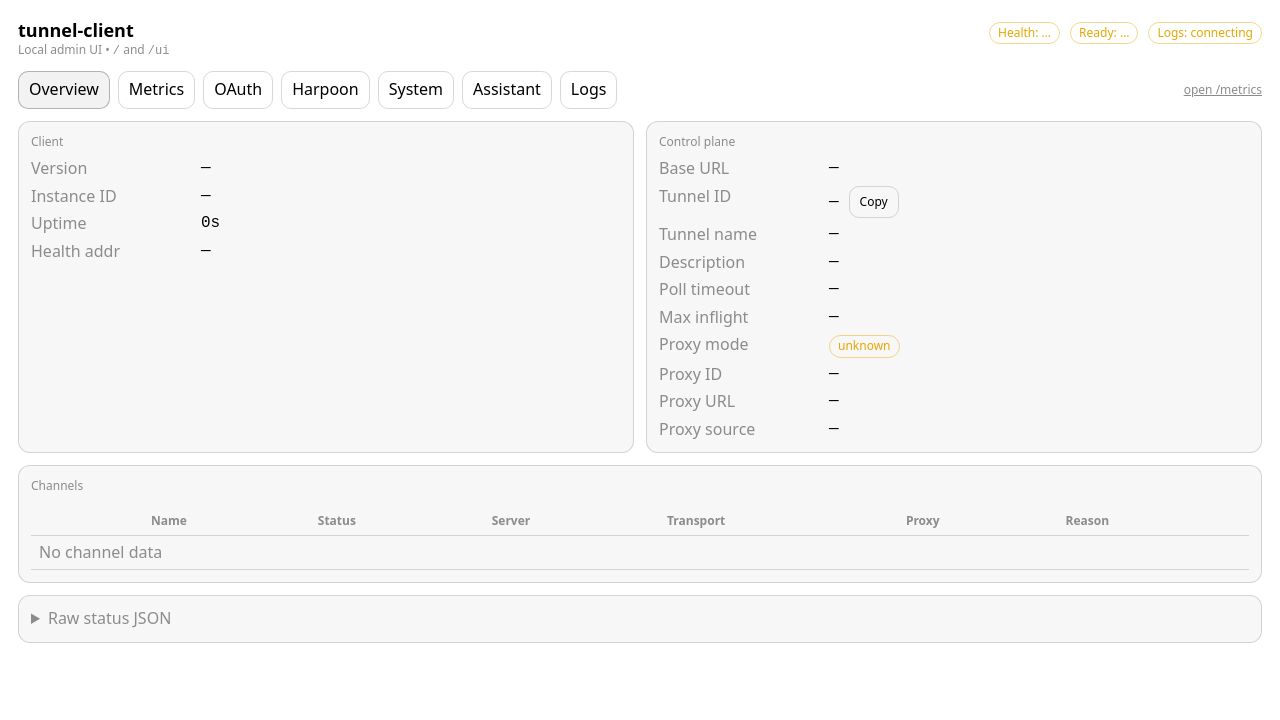
Test: App › registers and switches to the System tab
The width and height of the screenshot is (1280, 720).
Click the tab "System". click: (416, 90)
box: [378,72,454,109]
(page scrolled)
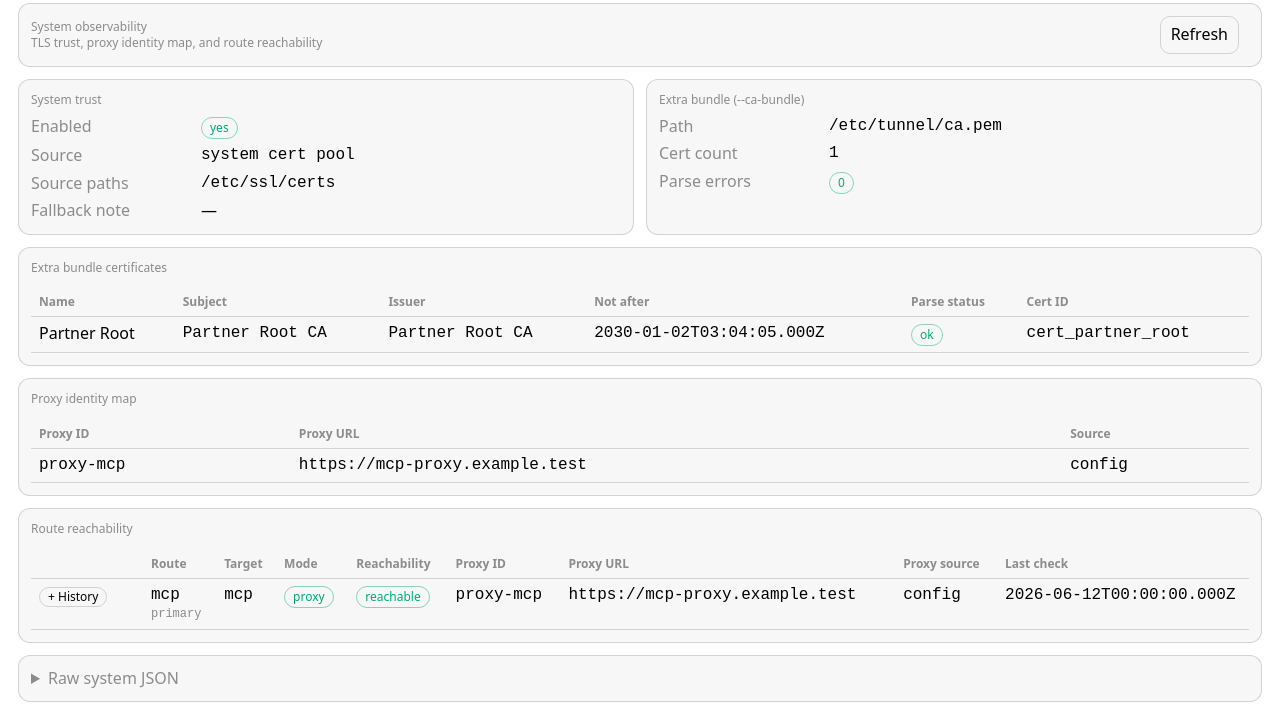
Now the 1st text "Partner Root CA" is shown, box [175,317,380,353]
Now the text "reachable" is shown, box [356,586,430,608]
